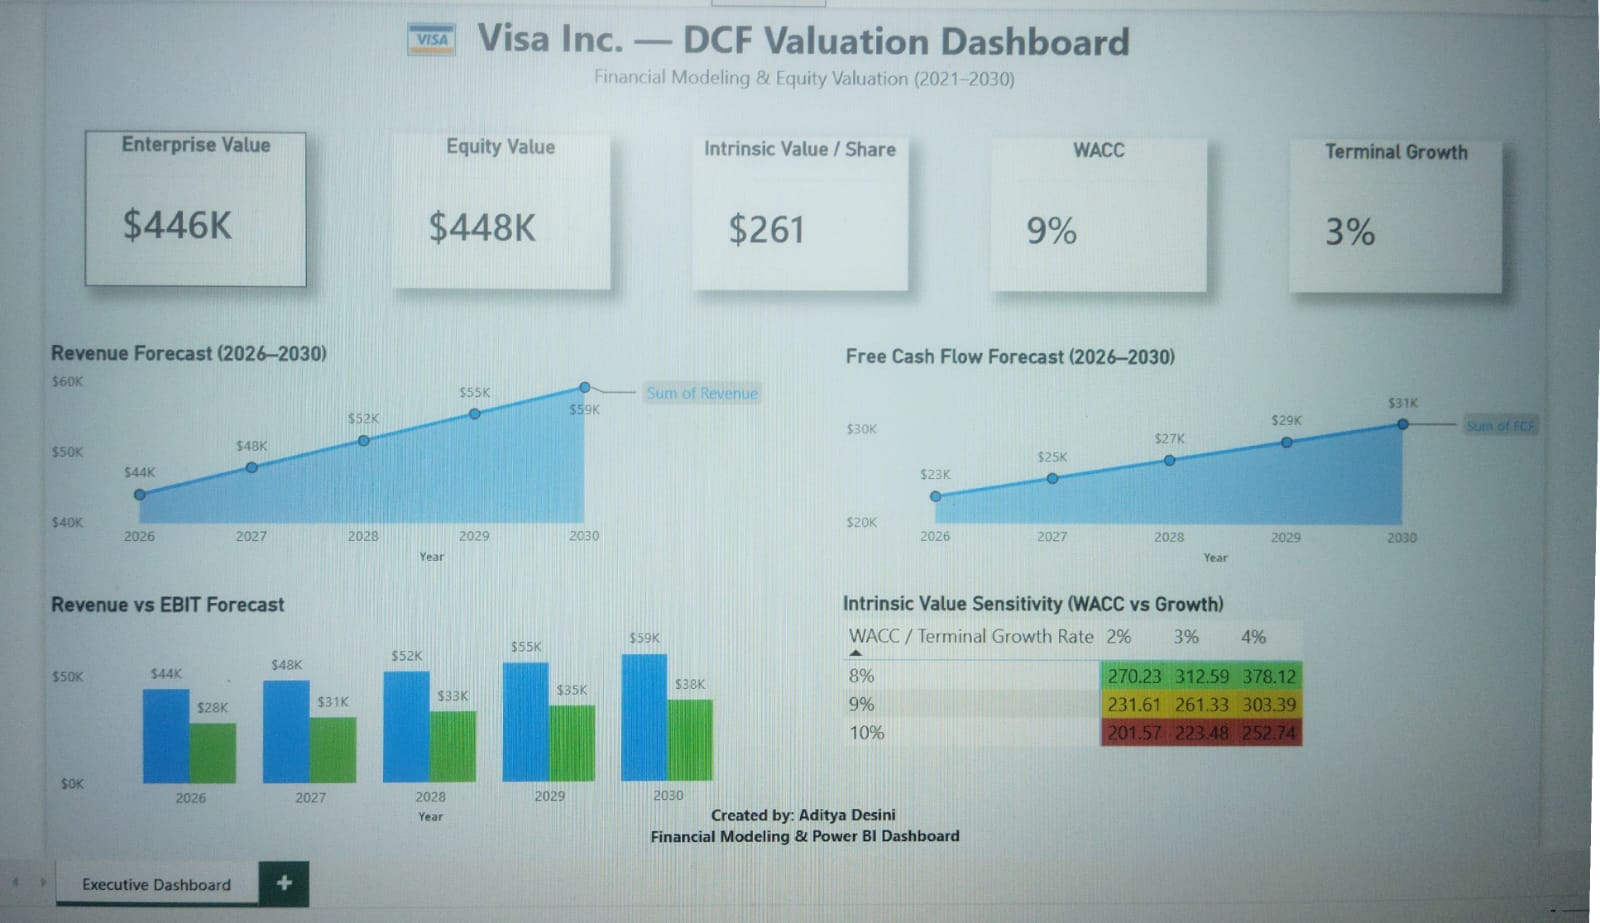

This screenshot's page, from the dashboard's own definition file:
{"tool":"powerbi","page":{"name":"Executive Dashboard","canvas":[1280,720],"ordinal":0},"visuals":[{"type":"textbox","box":[0,0,1280.3,119.8],"z":0},{"type":"actionButton","box":[0,0,100,40],"z":1000},{"type":"cardVisual","title":"Equity Value","fields":{"Data":["Sum(DCF Valuation.Value)"]},"box":[288.9,108.8,184.6,129.6],"z":2000},{"type":"cardVisual","title":"Intrinsic Value / Share","fields":{"Data":["Sum(DCF Valuation.Value)"]},"box":[544.8,108.8,184.6,129.6],"z":3000},{"type":"cardVisual","title":"Enterprise Value","fields":{"Data":["Sum(DCF Valuation.Value)"]},"box":[33,108.8,184.6,129.6],"z":4000},{"type":"cardVisual","title":"WACC","fields":{"Data":["Sum(WACC.Value)"]},"box":[800.6,108.8,184.6,129.6],"z":5000},{"type":"cardVisual","title":"Terminal Growth","fields":{"Data":["Sum(Terminal Growth.Value)"]},"box":[1056.5,108.8,184.6,129.6],"z":6000},{"type":"lineChart","title":"Revenue Forecast (2026–2030)","fields":{"Category":["Forecasting.Year"],"Y":["Sum(Forecasting.Revenue)"]},"box":[0,283.7,610.2,192],"z":7000},{"type":"lineChart","title":"Free Cash Flow Forecast (2026–2030)","fields":{"Category":["Forecasting.Year"],"Y":["Sum(Forecasting.FCF)"]},"box":[670.7,283.5,609.3,191.8],"z":8000},{"type":"clusteredColumnChart","title":"Revenue vs EBIT Forecast","fields":{"Category":["Forecasting.Year"],"Y":["Sum(Forecasting.Revenue)","Sum(Forecasting.EBIT)"]},"box":[0,494.6,610.5,200.3],"z":9000},{"type":"pivotTable","title":"Intrinsic Value Sensitivity (WACC vs Growth)","fields":{"Rows":["Sensitivity Analysis.WACC / Terminal Growth Rate"],"Values":["Sum(Sensitivity Analysis.0.02)","Avg(Sensitivity Analysis.0.03)","Avg(Sensitivity Analysis.0.04)"]},"box":[669.6,494.6,610.5,202.7],"z":10000},{"type":"textbox","box":[0,669.6,1280,50.7],"z":11000},{"type":"image","box":[208.7,9.7,230.4,41],"z":12000}]}

Visuals, with their boxes in screenshot pixels (x1, y1, x2, y2):
textbox: crop(0, 0, 1586, 141)
actionButton: crop(0, 0, 78, 39)
"Equity Value" cardVisual: crop(319, 127, 555, 292)
"Intrinsic Value / Share" cardVisual: crop(646, 127, 882, 292)
"Enterprise Value" cardVisual: crop(0, 127, 228, 292)
"WACC" cardVisual: crop(973, 127, 1209, 292)
"Terminal Growth" cardVisual: crop(1300, 127, 1536, 292)
"Revenue Forecast (2026–2030)" lineChart: crop(0, 350, 730, 595)
"Free Cash Flow Forecast (2026–2030)" lineChart: crop(807, 350, 1586, 595)
"Revenue vs EBIT Forecast" clusteredColumnChart: crop(0, 620, 730, 876)
"Intrinsic Value Sensitivity (WACC vs Growth)" pivotTable: crop(806, 620, 1586, 879)
textbox: crop(0, 843, 1586, 908)
image: crop(217, 0, 511, 52)
